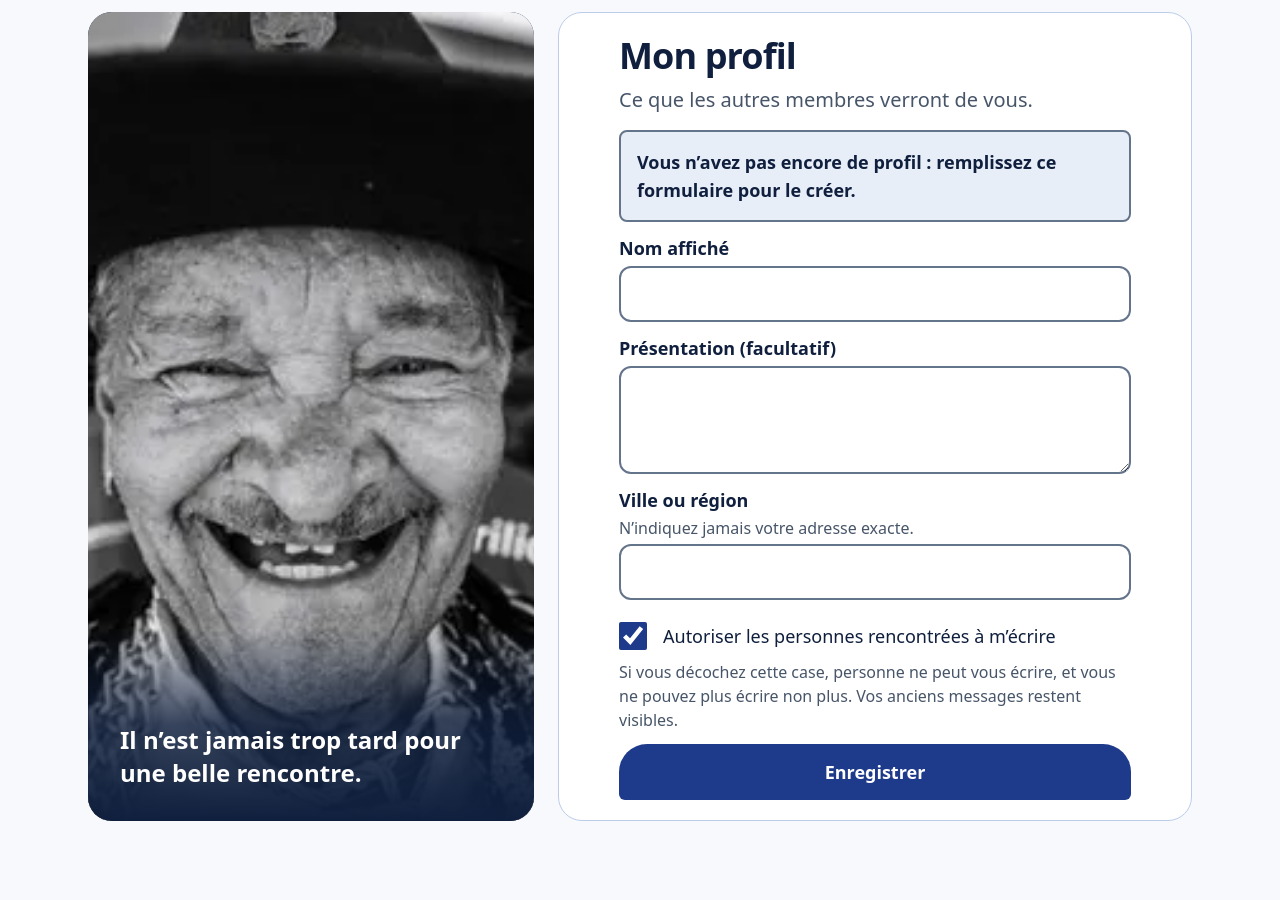
Test: ProfileView › crée le profil au premier enregistrement puis n'affiche plus l'invitation
This screenshot has width=1280, height=900.
Type "Jeanne" into the field with id "displayName".
click(875, 294); type("Jeanne")  # box [619, 266, 1131, 322]
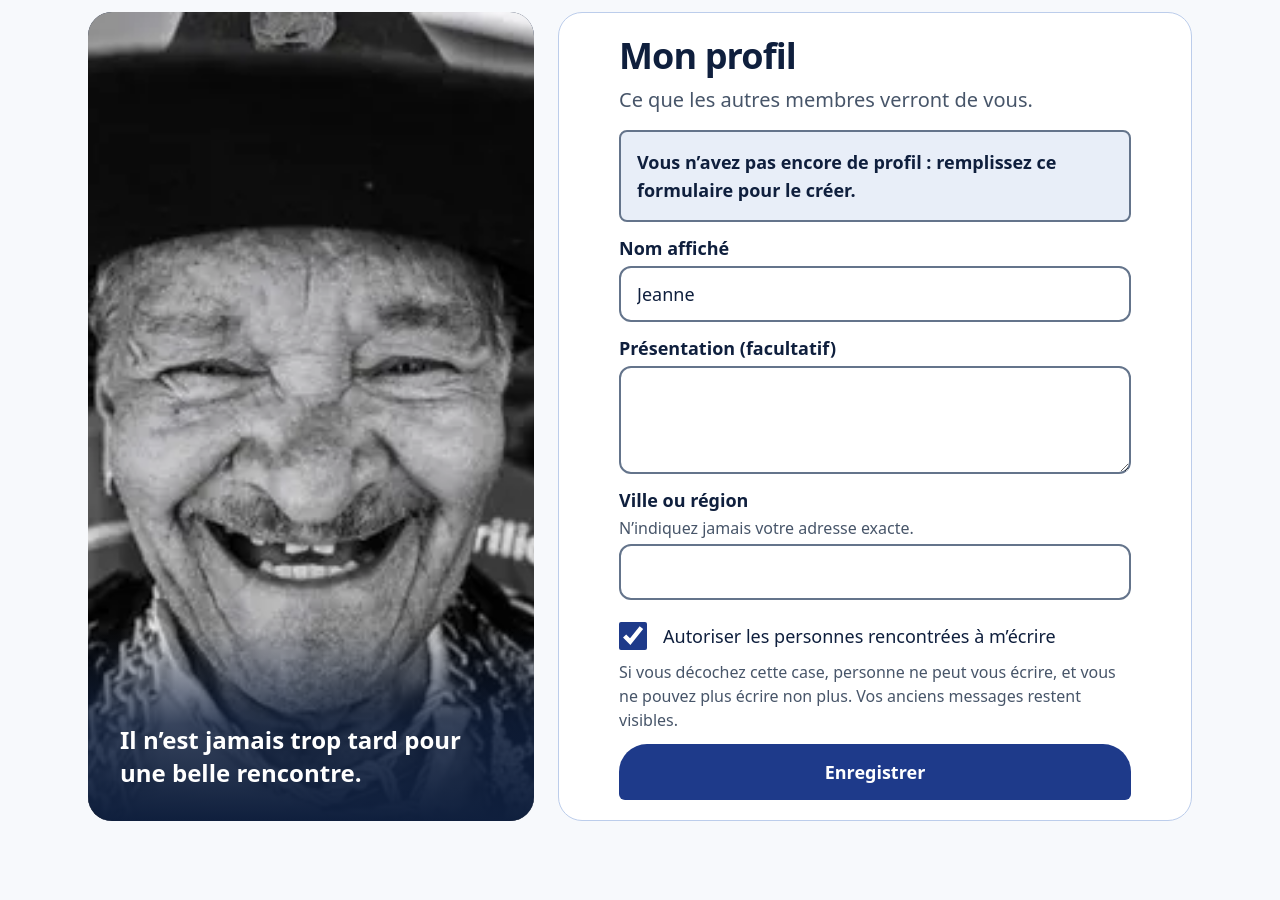
Type "Lyon" into the dropdown with id "approximateLocation".
click(875, 572); type("Lyon")  # box [619, 544, 1131, 600]
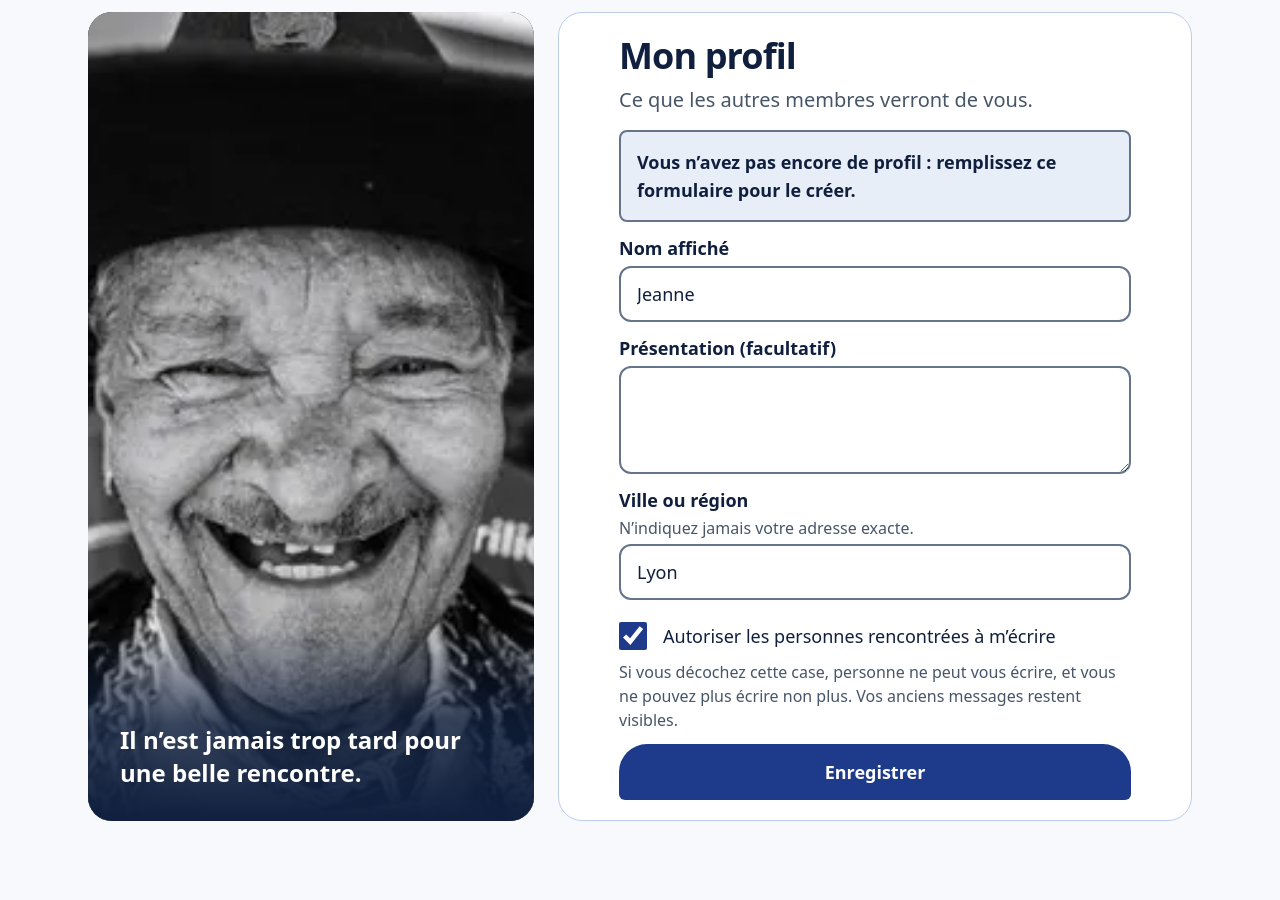
Submit the form, box [619, 130, 1131, 800]
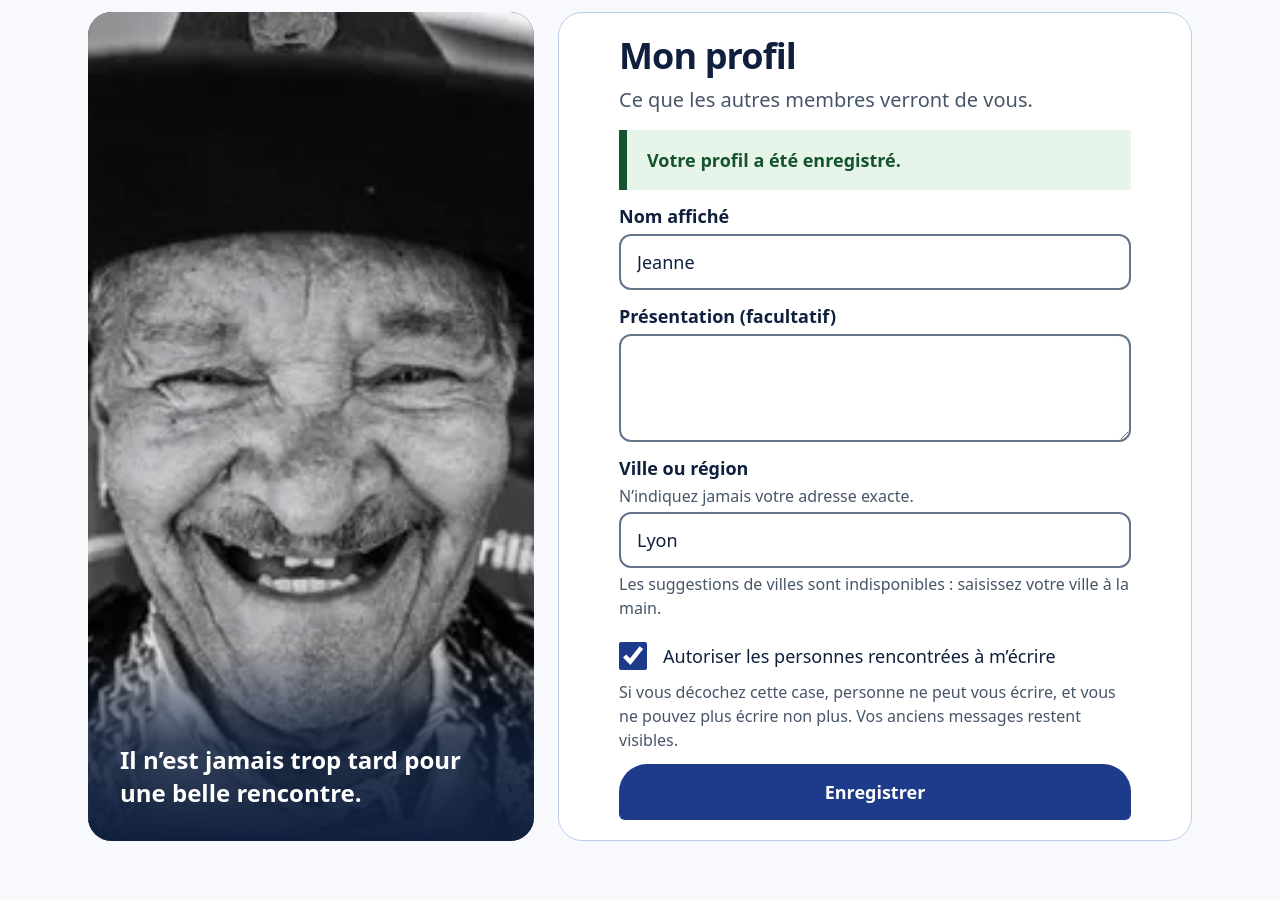
Expected: the text "Votre profil a été enregistré." is shown, [619, 130, 1131, 190]
Expected: the text "Vous n’avez pas encore de profil" is gone
